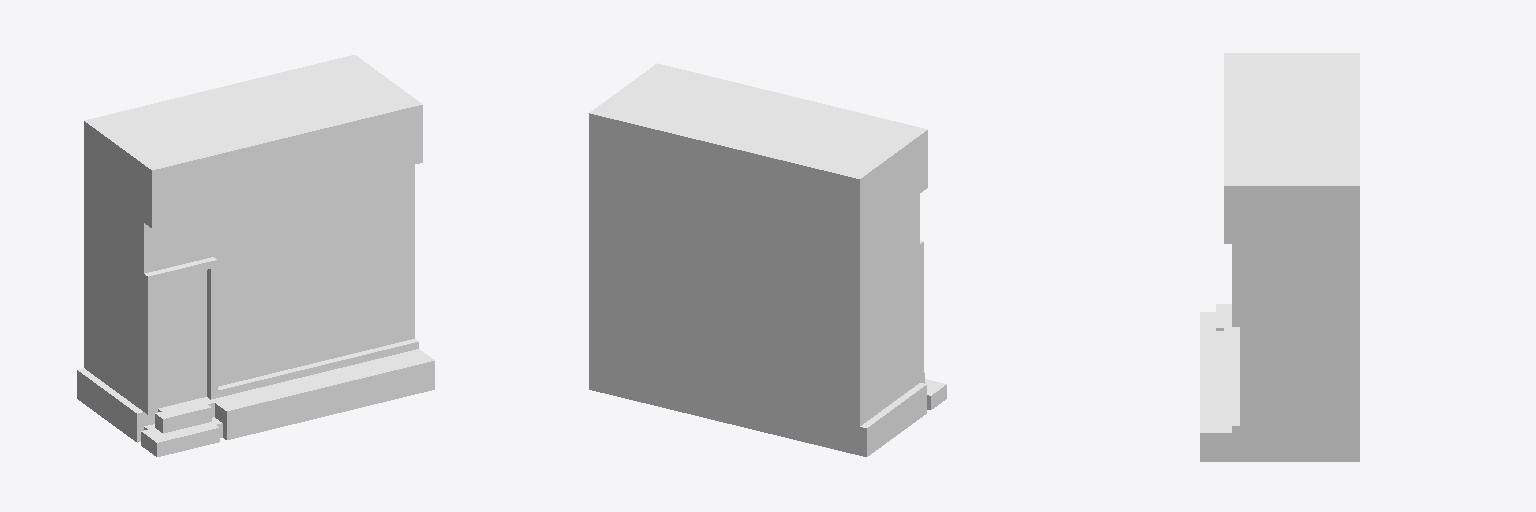
The model's file is Pizzeria.obj.
The picture shows the model from 3 angles: view 1: azimuth 30°, elevation 25°; view 2: azimuth 150°, elevation 25°; view 3: azimuth 270°, elevation 25°; orthographic projection.
Parts seen in each view (by area): view 1: object 1; view 2: object 1; view 3: object 1.
Part boxes in pixels (x1,y1,x2,y2): object 1: (77, 55, 434, 456); object 1: (589, 63, 946, 456); object 1: (1200, 53, 1359, 461).
Bounding box in the file's own units: 4 × 3.8 × 2.